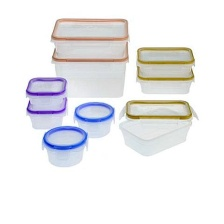plastic_box: (43, 10, 136, 100), (114, 94, 203, 160), (130, 41, 199, 100), (19, 71, 72, 132), (35, 122, 92, 171), (68, 96, 117, 141)
